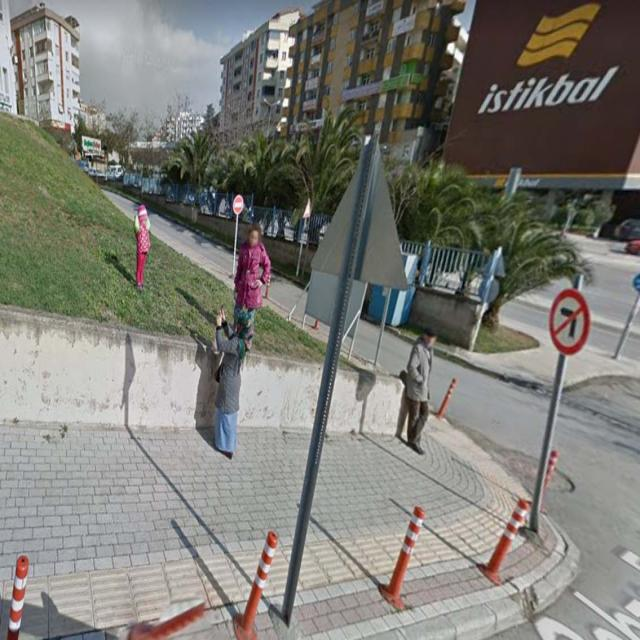girisyok: (233, 195, 243, 215)
soladonulmez: (549, 288, 592, 355)
